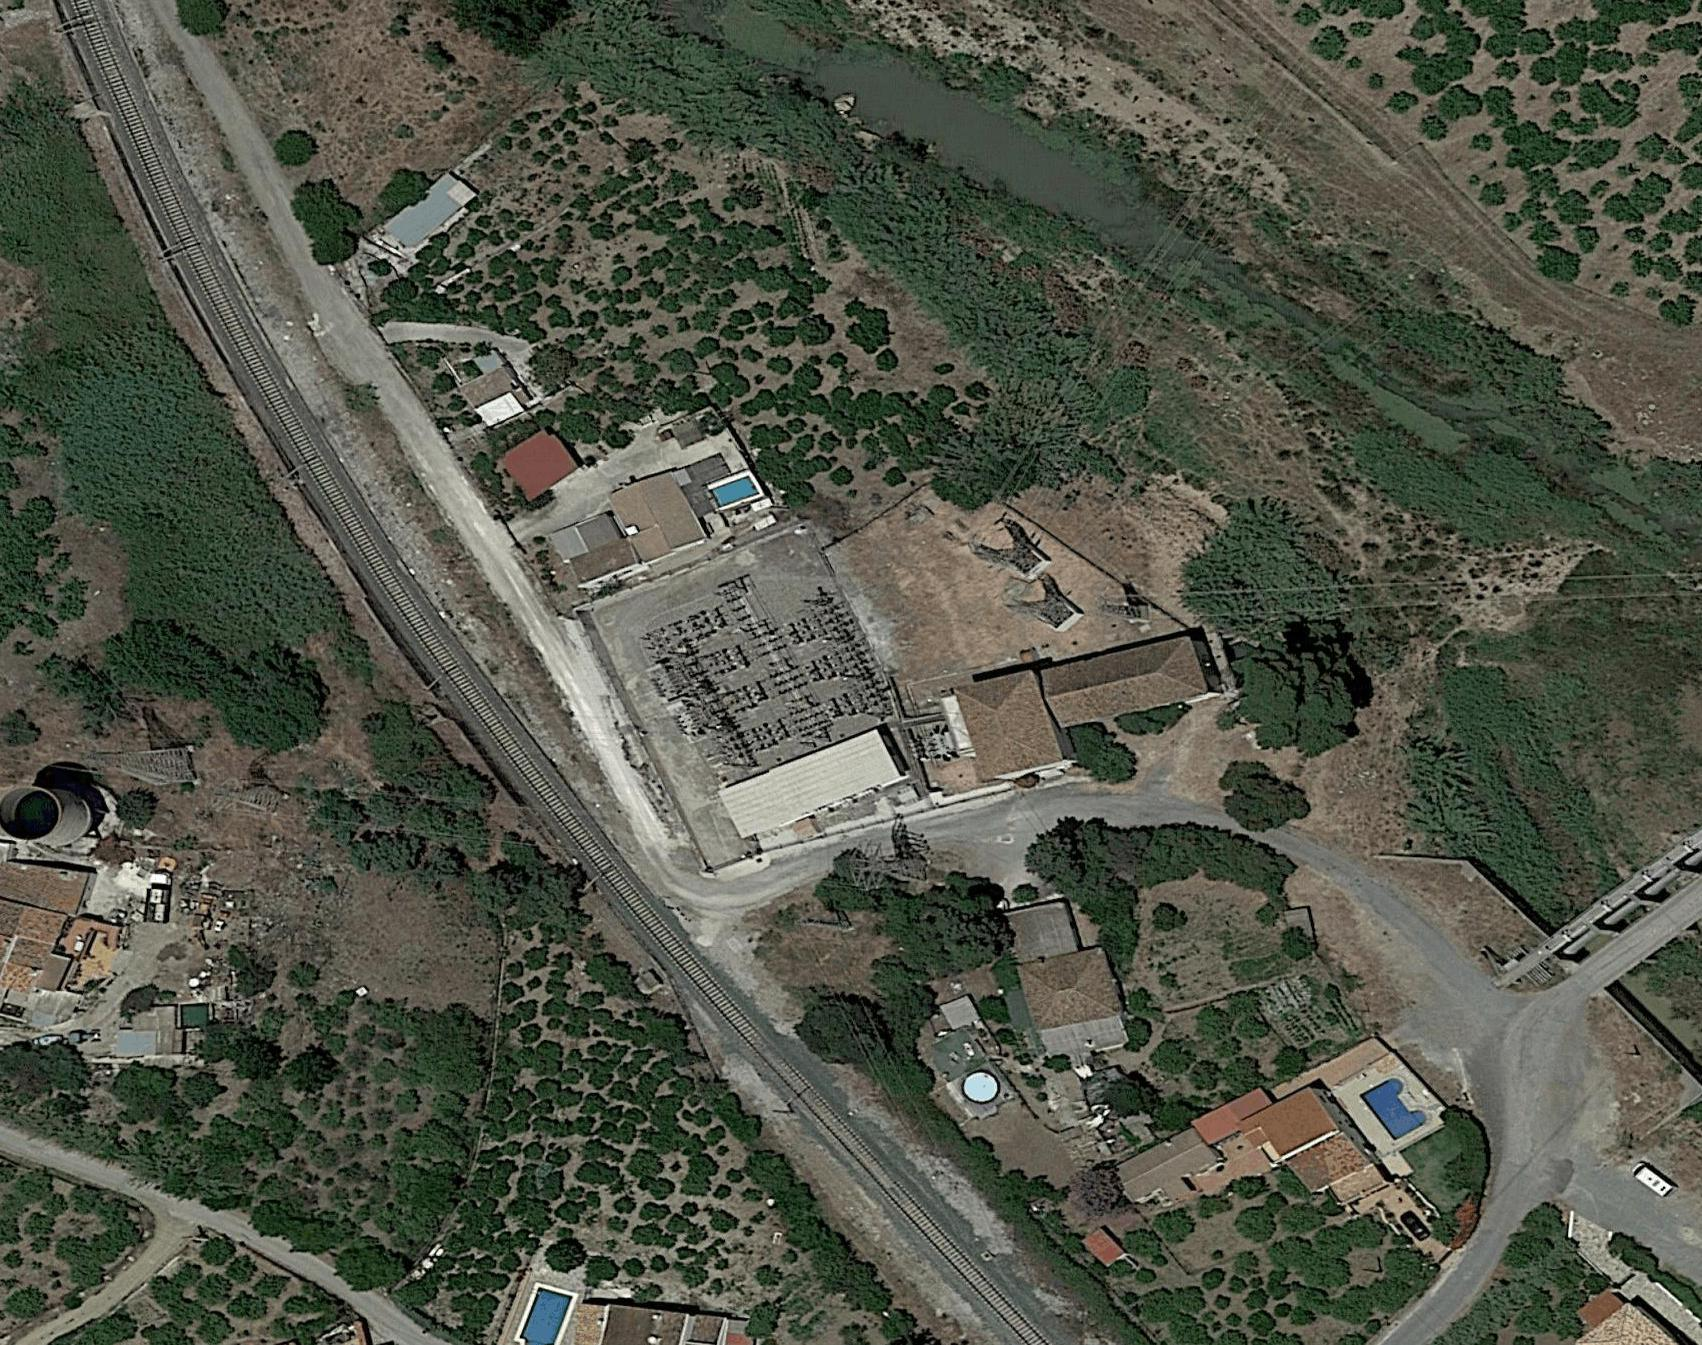substation: (631, 566, 968, 790)
